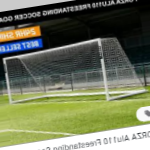goals: (4, 38, 148, 104)
